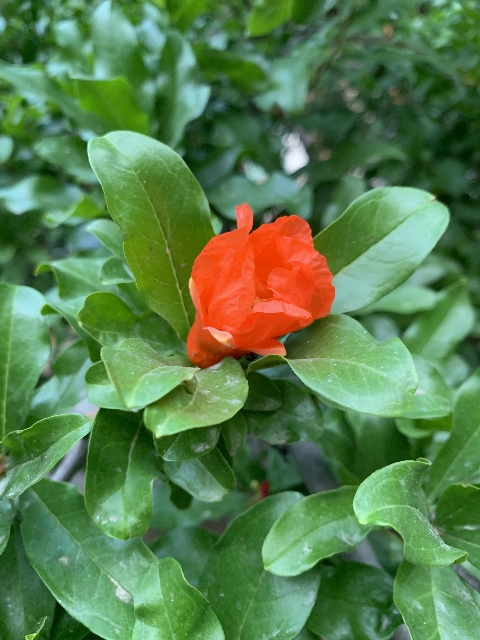flower: (187, 201, 334, 367)
